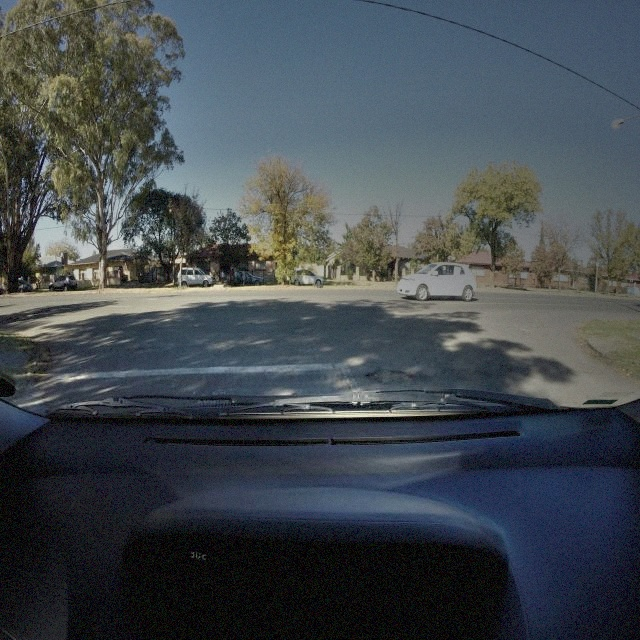pothole: (366, 361, 413, 387)
